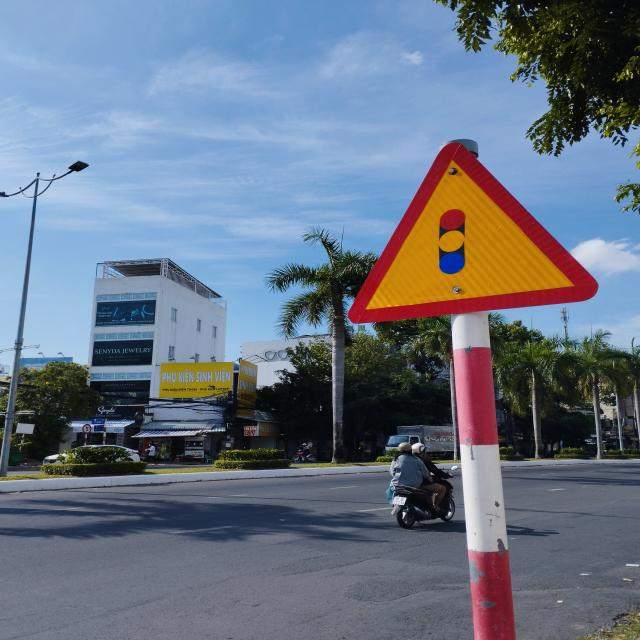Duong_Co_Go_Giam_Toc: (349, 143, 598, 323)
